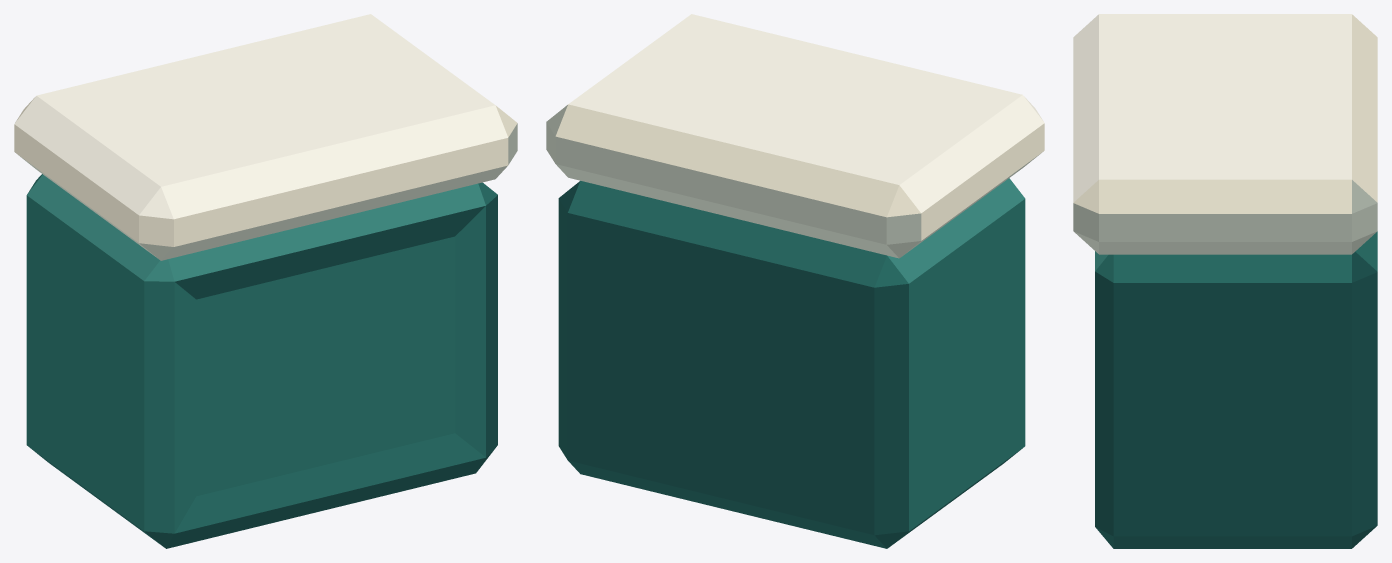
The model's file is Terrain_TopRun1LR.gltf.
The picture shows the model from 3 angles, left to right: view 1: azimuth 30°, elevation 25°; view 2: azimuth 150°, elevation 25°; view 3: azimuth 270°, elevation 25°; orthographic projection. The views are drawn at different scales.
Visible parts, largest first — view 1: Terrain_TopRun1LR_baked; view 2: Terrain_TopRun1LR_baked; view 3: Terrain_TopRun1LR_baked.
Boxes of the visible parts, x1,y1,x2,y2 form: Terrain_TopRun1LR_baked: (14, 14, 517, 548); Terrain_TopRun1LR_baked: (546, 14, 1044, 548); Terrain_TopRun1LR_baked: (1073, 14, 1377, 548).
Bounding box in the file's own units: 1.07 × 1 × 0.735.
